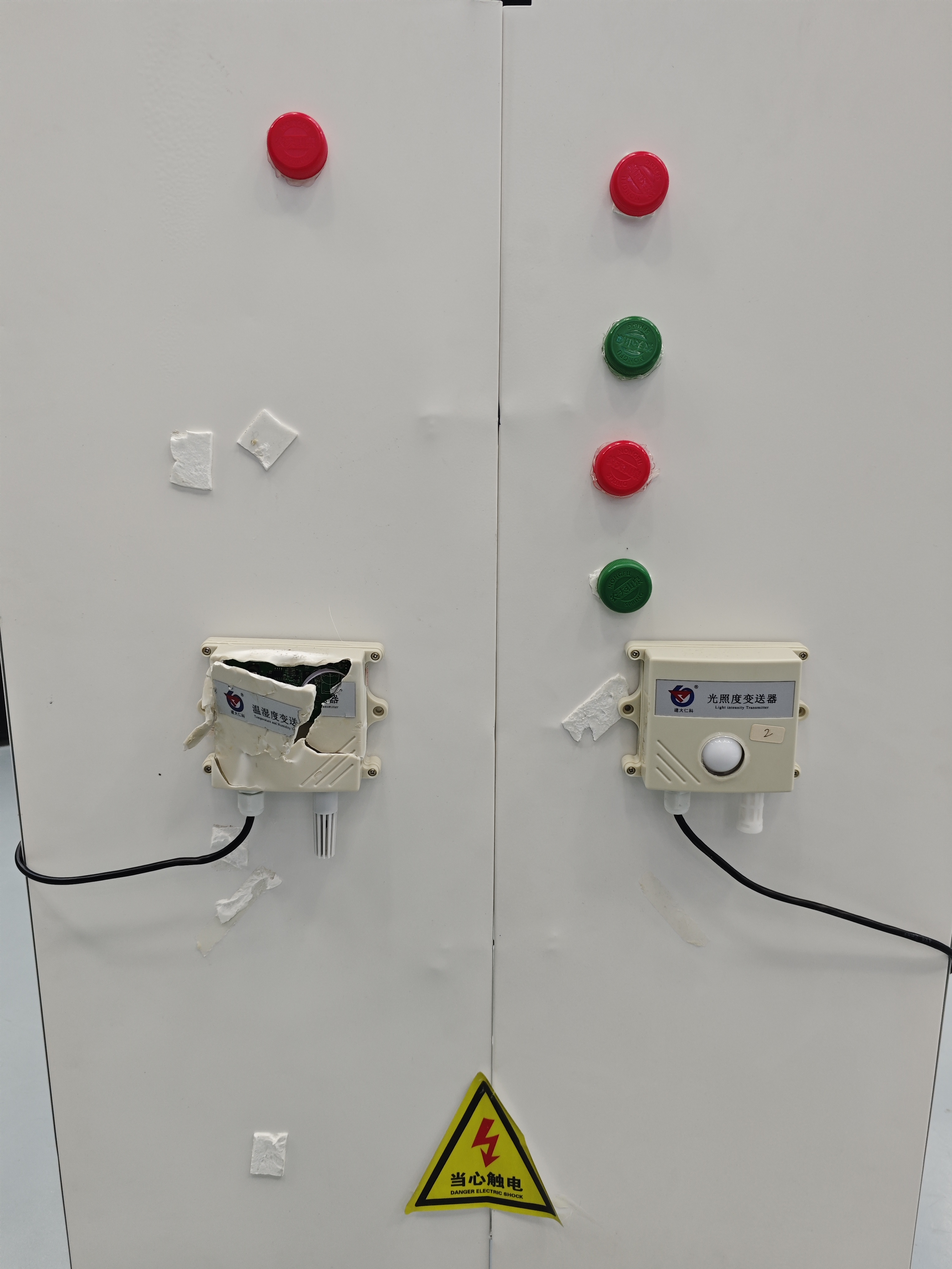red_warning: (560, 411, 674, 529), (591, 128, 710, 230), (255, 87, 354, 190)
sensor_damage: (173, 591, 419, 872)
